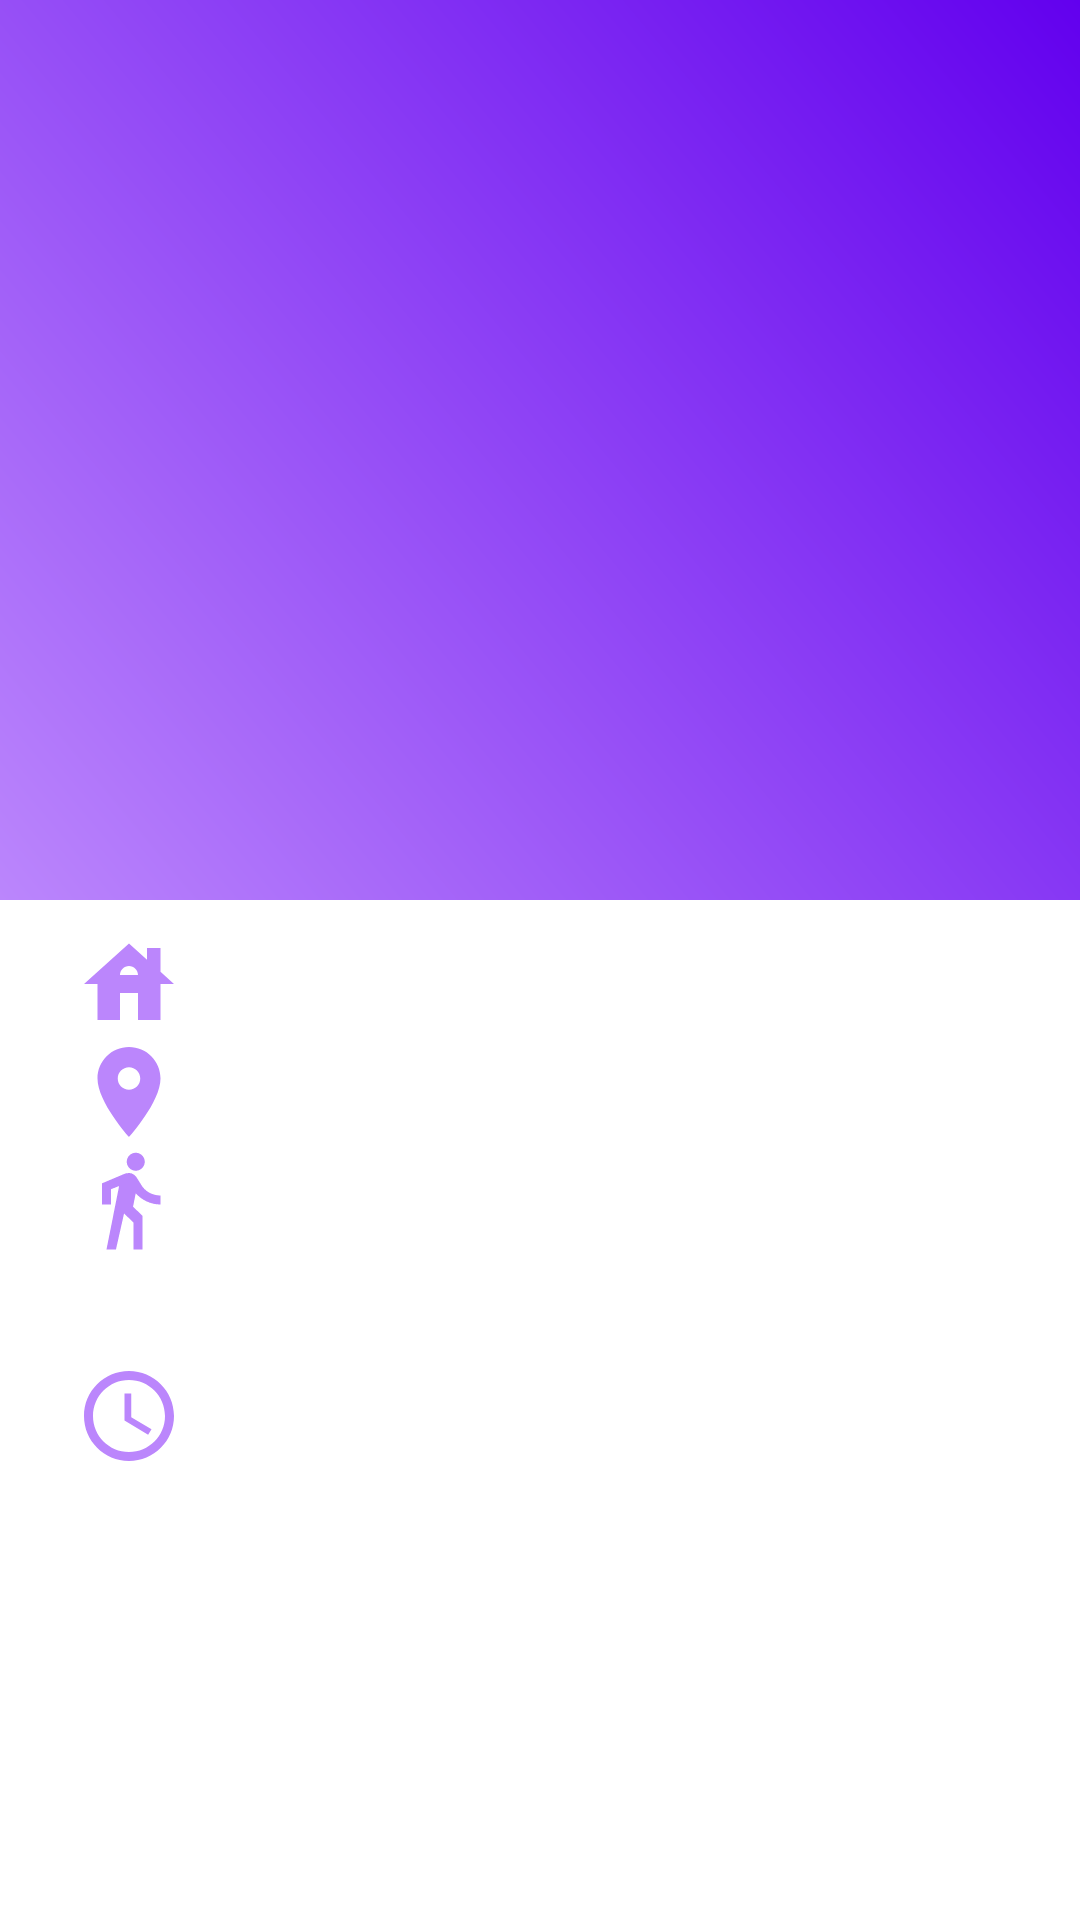

Where icons sit on this 1080w x 1920h app screen, as (x1, y1, x2, y2):
access time: (84, 1371, 174, 1461)
directions walk: (102, 1152, 161, 1250)
house: (84, 944, 174, 1020)
location on: (97, 1047, 161, 1137)
